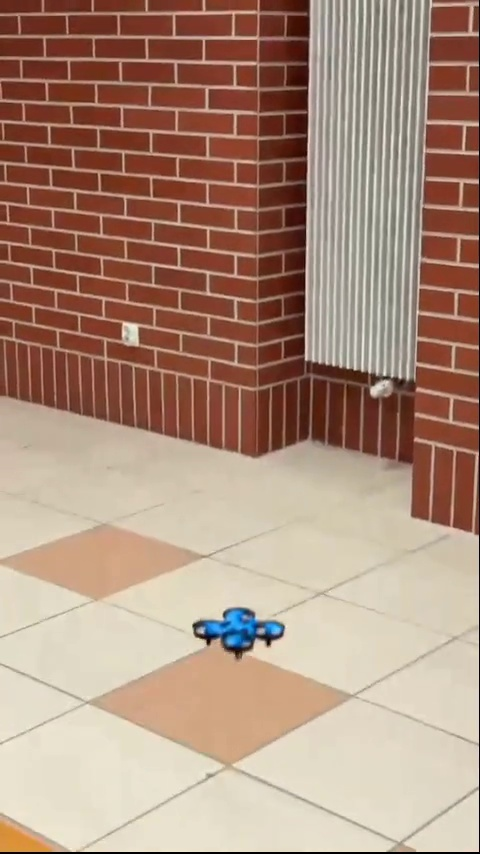drone: (192, 603, 293, 661)
